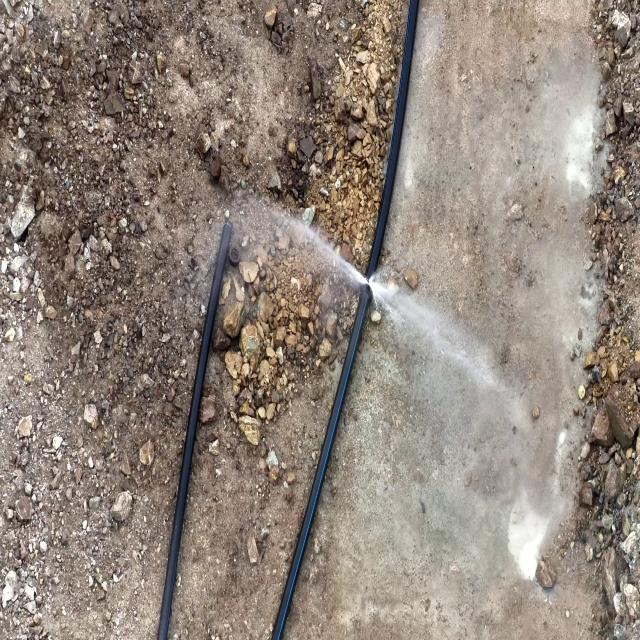leak: (282, 214, 422, 341)
